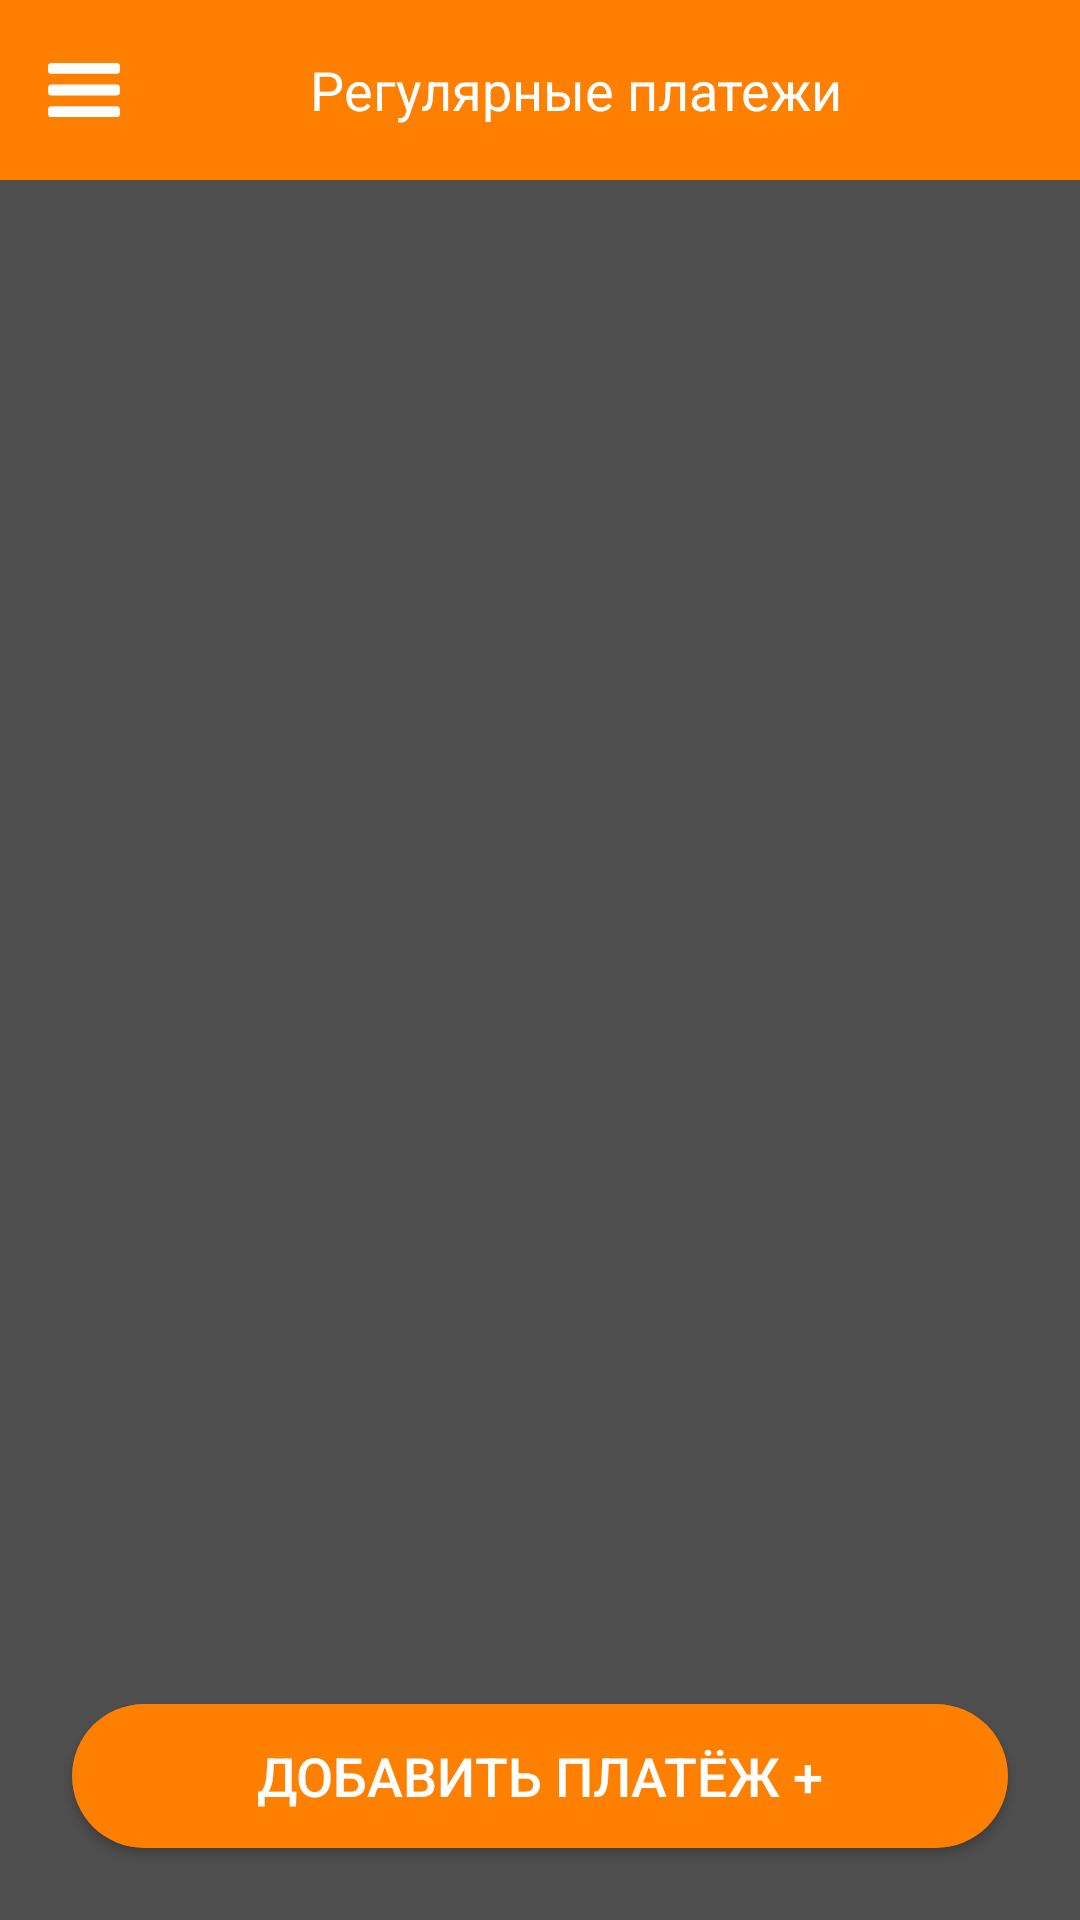

Point at icon controls on the screen. Image size 1080w x 1920h, points as point (x, y).
menu: point (84, 90)
